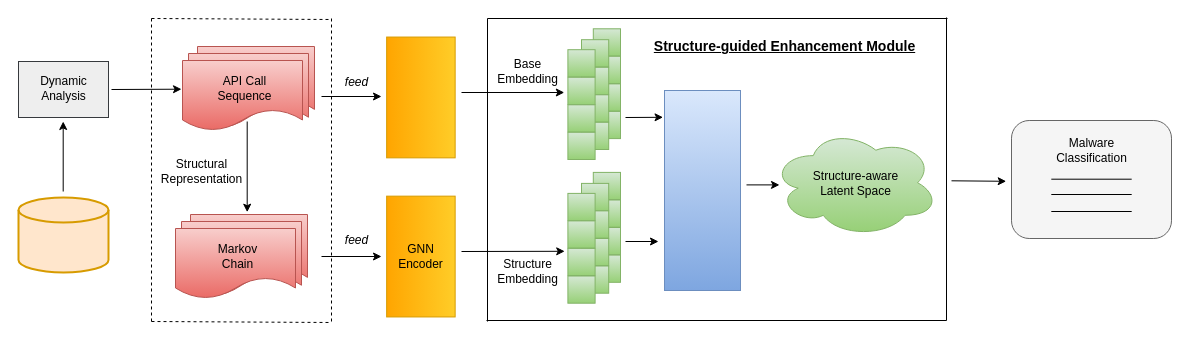
The diagram is 1189 pixels wide and 341 high, and some of its shapes have lost their labels. Here are the shapes that lost their labels. From the top down, the box of each, then its label:
(386, 36, 455, 158): LLM Encoder
(664, 90, 740, 290): Cross- attention Mechanism
(17, 196, 109, 273): Malware Samples
